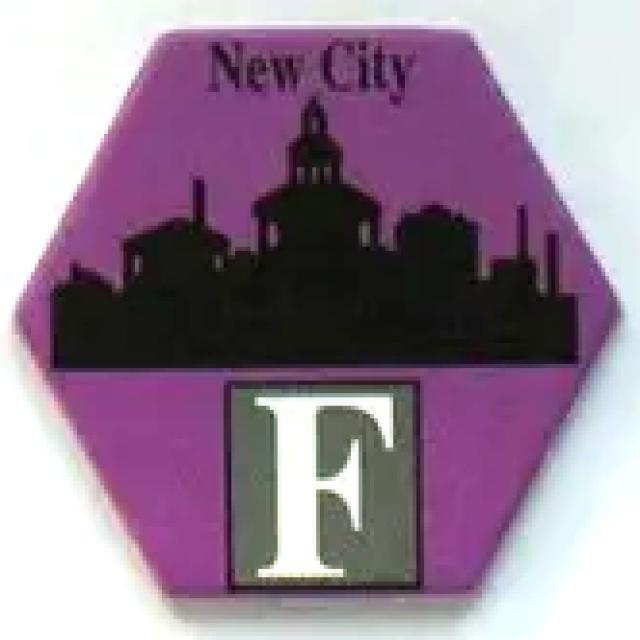21_0: (17, 24, 621, 604)
